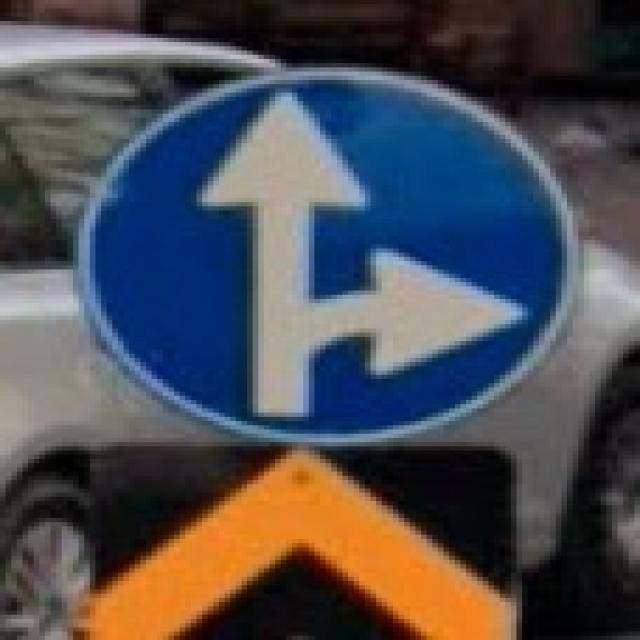Straight or Right: (80, 75, 568, 441)
